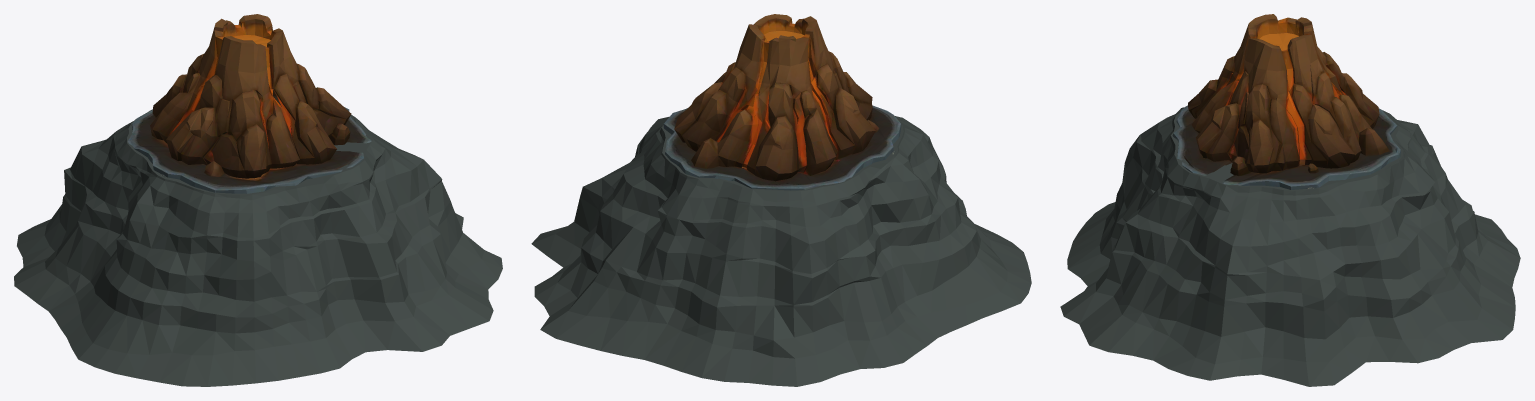
File: volcano_a.glb
The picture shows the model from 3 angles, left to right: view 1: azimuth 30°, elevation 25°; view 2: azimuth 150°, elevation 25°; view 3: azimuth 270°, elevation 25°; orthographic projection. The views are drawn at different scales.
Parts seen in each view (by area): view 1: lod0; view 2: lod0; view 3: lod0.
Part boxes in pixels (<box>): lod0: <box>14,14,502,386</box>; lod0: <box>531,14,1031,386</box>; lod0: <box>1060,14,1520,386</box>.
Size of what is drawn, in the model's own units: 4.16 by 2.35 by 3.91.
Materials: 1 (1 with a texture image).
